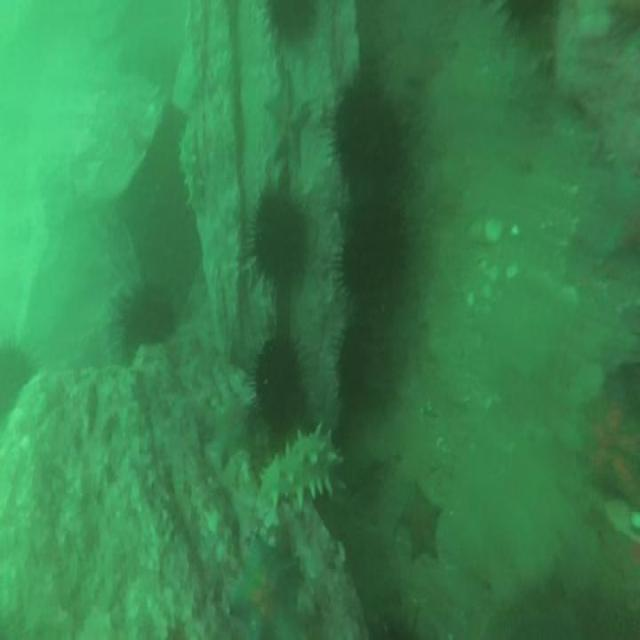echinus: (332, 82, 403, 196), (341, 212, 401, 302), (254, 195, 307, 288), (337, 327, 390, 414), (256, 335, 304, 428), (118, 284, 174, 359), (266, 2, 316, 41), (1, 350, 30, 412)
holothurian: (261, 425, 338, 507), (176, 121, 206, 216)
starfish: (584, 385, 640, 520), (236, 540, 304, 640), (265, 76, 309, 169), (400, 480, 443, 561), (210, 392, 250, 461)
